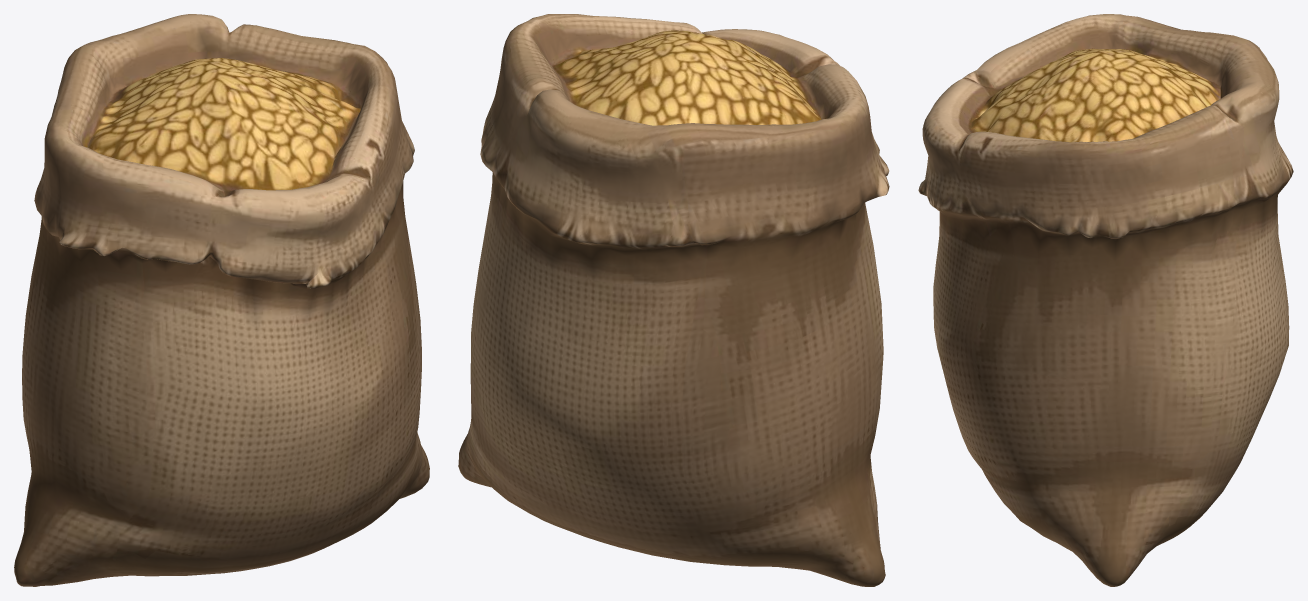
Rendered from GrainSack.glb.
3 views of the same model, side by side, from view 1: azimuth 30°, elevation 25°; view 2: azimuth 150°, elevation 25°; view 3: azimuth 270°, elevation 25° (orthographic). The views are drawn at different scales.
Parts seen in each view (by area): view 1: GrainSack; view 2: GrainSack; view 3: GrainSack.
Boxes of the visible parts, <box> form: GrainSack: <box>14,14,429,586</box>; GrainSack: <box>458,14,889,586</box>; GrainSack: <box>918,14,1293,586</box>.
Bounding box in the file's own units: 0.7705 × 0.8545 × 0.6498.
1 material, 1 textured.
